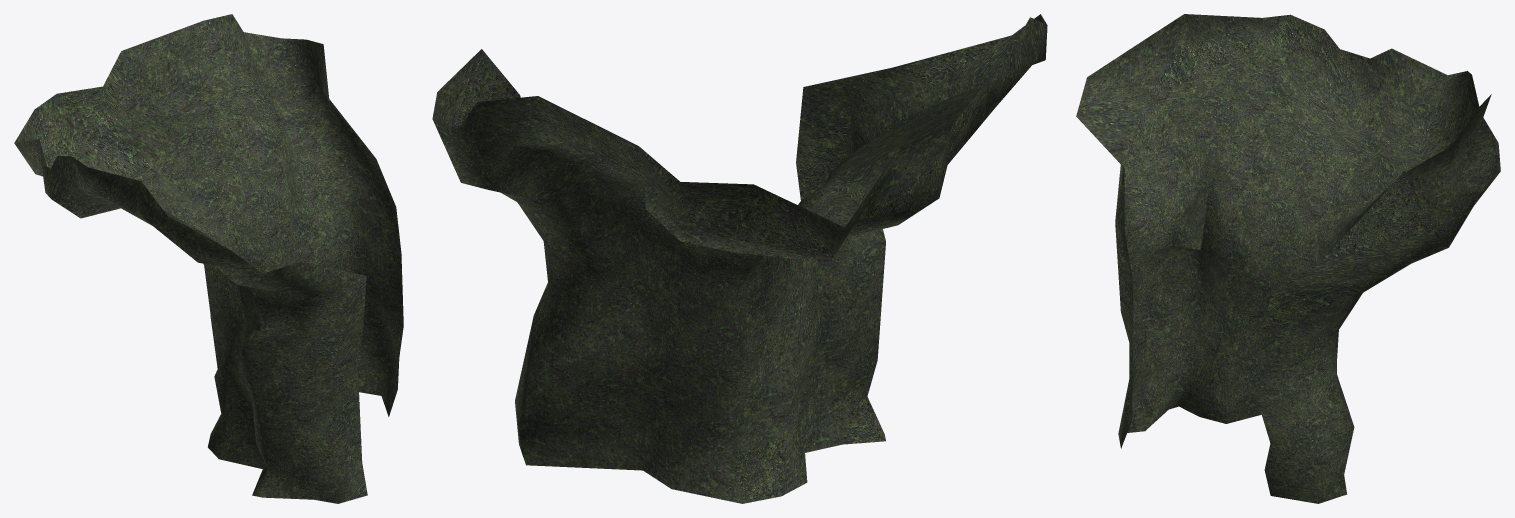
Rendered from cliff_coner_00_lod_01.fbx.
3 renders of one model, left to right at view 1: azimuth 30°, elevation 25°; view 2: azimuth 150°, elevation 25°; view 3: azimuth 270°, elevation 25°, orthographic. The views are drawn at different scales.
Visible parts, largest first — view 1: cliff_coner_00; view 2: cliff_coner_00; view 3: cliff_coner_00.
Boxes of the visible parts, bbox=[...] form: cliff_coner_00: bbox=[14, 14, 403, 503]; cliff_coner_00: bbox=[432, 14, 1047, 503]; cliff_coner_00: bbox=[1076, 14, 1500, 503].
Size of the model in its own units: 86.8 by 85.69 by 96.31.
